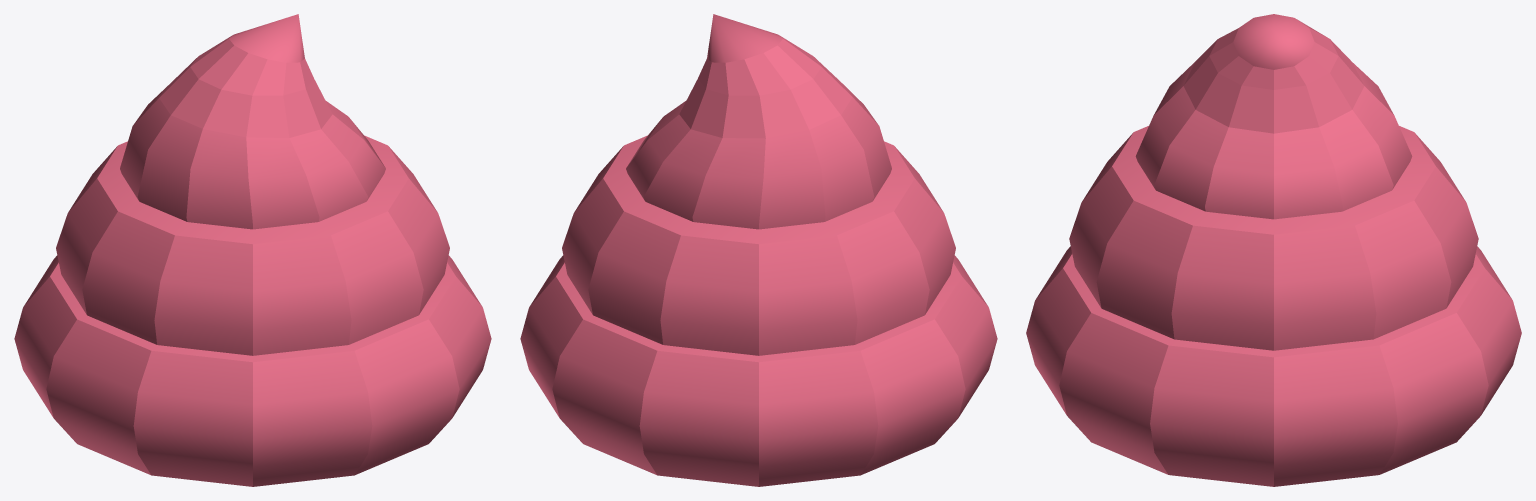
File: Poop.fbx
3 views of the same model, side by side, from view 1: azimuth 30°, elevation 25°; view 2: azimuth 150°, elevation 25°; view 3: azimuth 270°, elevation 25° (orthographic). The views are drawn at different scales.
Visible parts, largest first — view 1: Poop; view 2: Poop; view 3: Poop.
Boxes of the visible parts, bbox=[...] form: Poop: bbox=[14, 14, 491, 486]; Poop: bbox=[520, 14, 997, 486]; Poop: bbox=[1026, 14, 1521, 486].
Size of the model in its own units: 192 by 167 by 192.
Materials: 1 (1 with a texture image).
